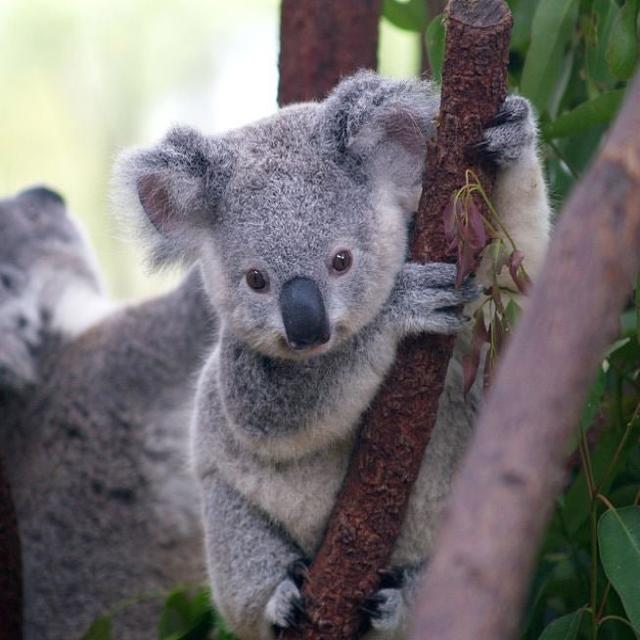Bear: (118, 54, 559, 640)
